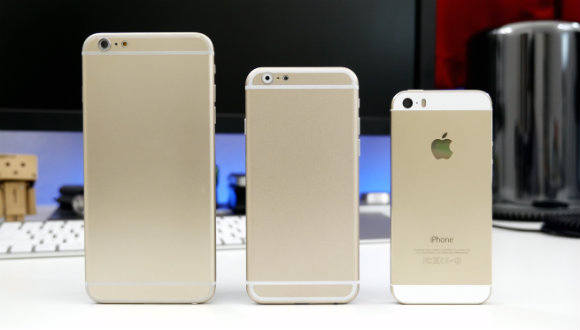apple: (423, 127, 461, 164)
